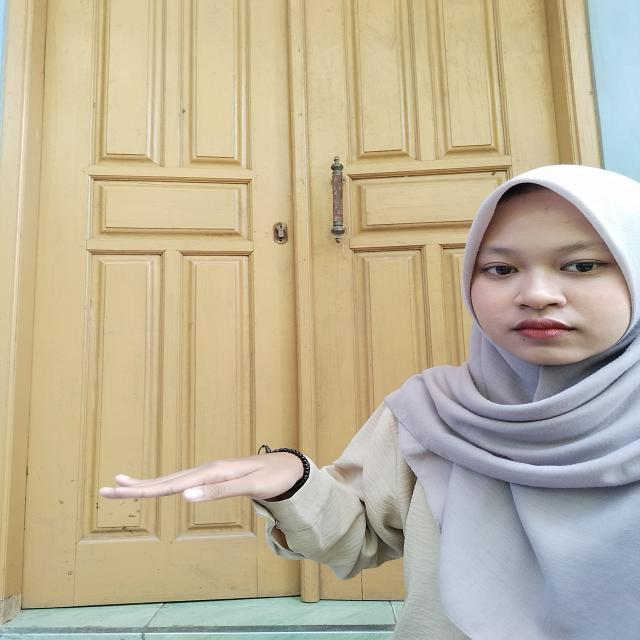adik: (78, 433, 321, 537)
